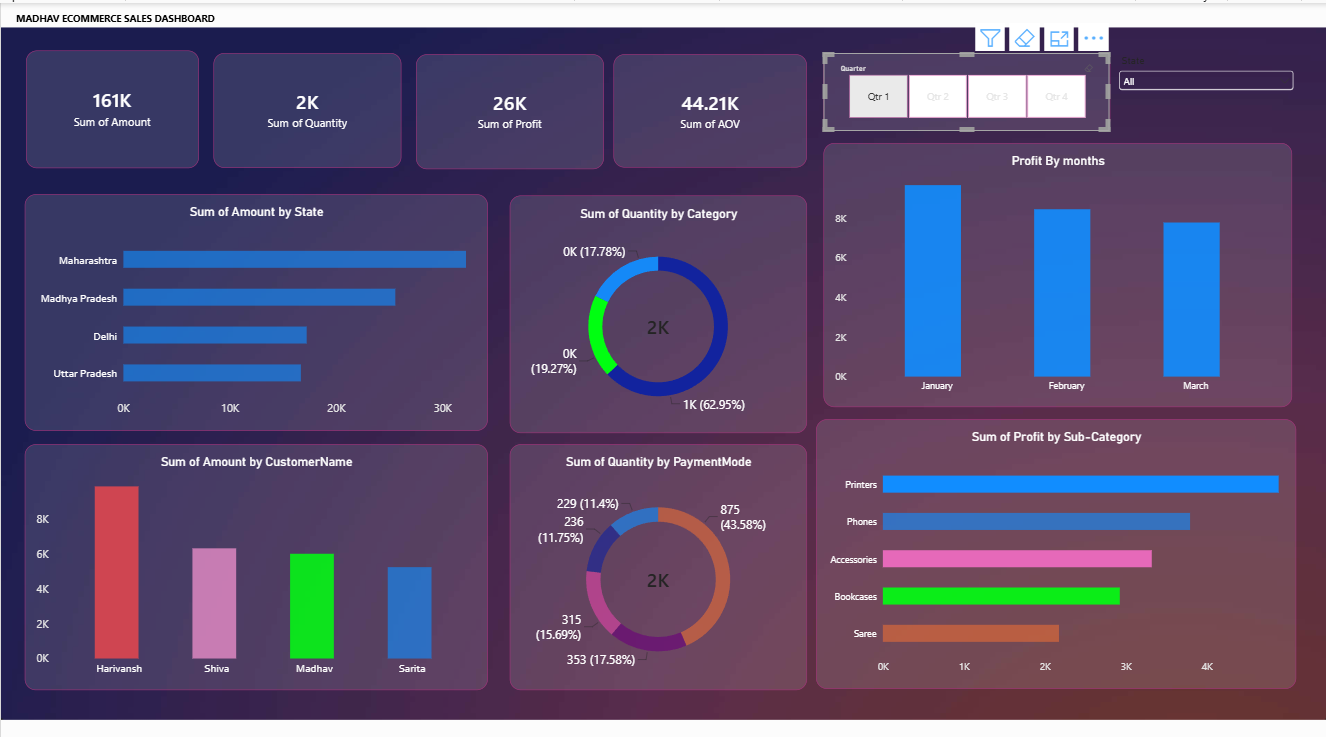

This screenshot's page, from the dashboard's own definition file:
{"tool":"powerbi","page":{"name":"Page 1","canvas":[1920,1080],"ordinal":0},"visuals":[{"type":"textbox","box":[22,12,319,32],"z":0},{"type":"columnChart","title":"Profit By months","fields":{"Category":["Orders.Order Date.Variation.Date Hierarchy.Month"],"Y":["Sum(Details.Profit)"]},"box":[1190,202.5,678,382],"z":1000},{"type":"barChart","fields":{"Category":["Details.Sub-Category"],"Y":["Sum(Details.Profit)"]},"box":[1180,602.5,695,390],"z":2000},{"type":"donutChart","fields":{"Category":["Details.Category"],"Y":["Sum(Details.Quantity)"]},"box":[736,278,430,344],"z":3000},{"type":"donutChart","fields":{"Category":["Details.PaymentMode"],"Y":["Sum(Details.Quantity)"]},"box":[736,638,430,356],"z":4000},{"type":"cardVisual","fields":{"Data":["Sum(Details.Amount)"]},"box":[36,68,250,170],"z":5000},{"type":"cardVisual","fields":{"Data":["Sum(Details.Profit)"]},"box":[600,74,272,166],"z":6000},{"type":"cardVisual","fields":{"Data":["Sum(Details.Quantity)"]},"box":[308,72,272,166],"z":7000},{"type":"cardVisual","fields":{"Data":["Sum(Details.AOV)"]},"box":[886,74,280,164],"z":8000},{"type":"barChart","fields":{"Category":["Orders.State"],"Y":["Sum(Details.Amount)"]},"box":[35,277.5,670,342.5],"z":9000},{"type":"columnChart","fields":{"Category":["Orders.CustomerName"],"Y":["Sum(Details.Amount)"]},"box":[35,638,670,356],"z":10000},{"type":"slicer","fields":{"Values":["Orders.Order Date.Variation.Date Hierarchy.Quarter"]},"box":[1190,72.5,415,112.5],"z":11000},{"type":"slicer","fields":{"Values":["Orders.State"]},"box":[1614,74,262,84],"z":11001}]}

Visuals, with their boxes on the page's 1920x1080 design canvas (x1, y1, x2, y2). These are canvas units, not pixel positions in the 1326x737 screenshot, which may show the page scaled, cropped or inside an application window:
textbox: <box>22,12,341,44</box>
"Profit By months" columnChart: <box>1190,202,1868,584</box>
barChart - Details.Sub-Category x Sum(Details.Profit): <box>1180,602,1875,992</box>
donutChart - Details.Category x Sum(Details.Quantity): <box>736,278,1166,622</box>
donutChart - Details.PaymentMode x Sum(Details.Quantity): <box>736,638,1166,994</box>
cardVisual - Sum(Details.Amount): <box>36,68,286,238</box>
cardVisual - Sum(Details.Profit): <box>600,74,872,240</box>
cardVisual - Sum(Details.Quantity): <box>308,72,580,238</box>
cardVisual - Sum(Details.AOV): <box>886,74,1166,238</box>
barChart - Orders.State x Sum(Details.Amount): <box>35,278,705,620</box>
columnChart - Orders.CustomerName x Sum(Details.Amount): <box>35,638,705,994</box>
slicer - Orders.Order Date.Variation.Date Hierarchy.Quarter: <box>1190,72,1605,185</box>
slicer - Orders.State: <box>1614,74,1876,158</box>
